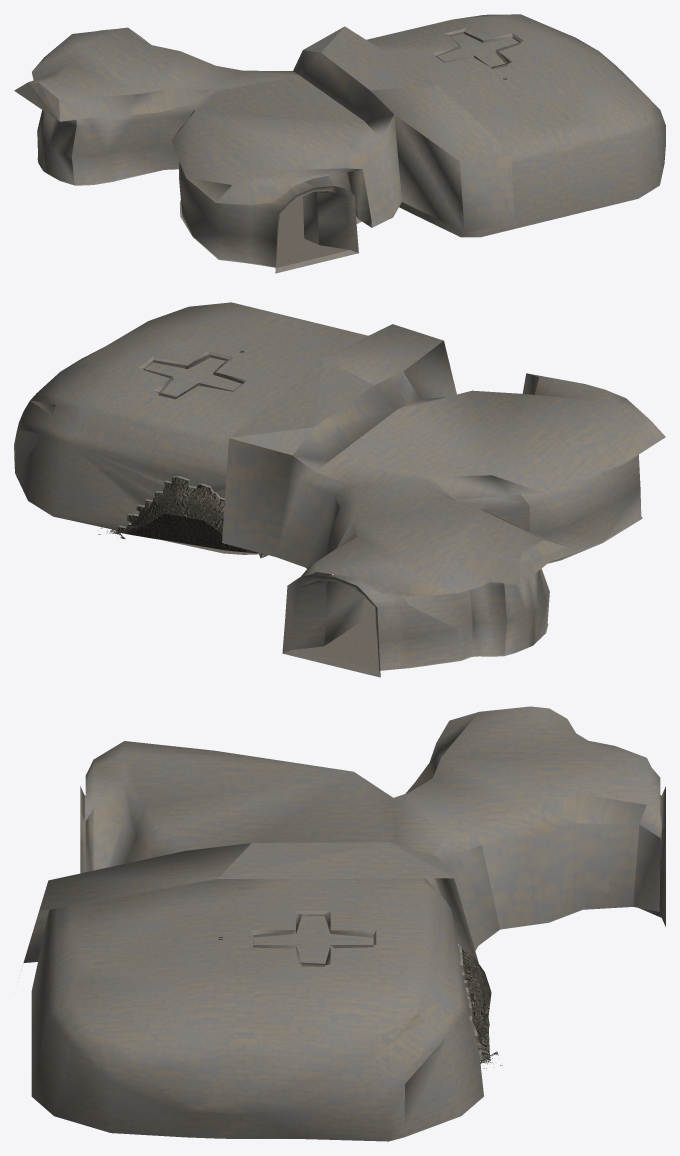
The model's file is R_Tun2B.glb.
The picture shows the model from 3 angles, top to bottom: view 1: azimuth 30°, elevation 25°; view 2: azimuth 150°, elevation 25°; view 3: azimuth 270°, elevation 25°; orthographic projection. The views are drawn at different scales.
Visible parts, largest first — view 1: _R_Tun2B; view 2: _R_Tun2B; view 3: _R_Tun2B.
Part boxes in pixels (x1=…): _R_Tun2B: x1=14, y1=14, x2=665, y2=273; _R_Tun2B: x1=14, y1=302, x2=665, y2=677; _R_Tun2B: x1=23, y1=706, x2=665, y2=1141.
Bounding box in the file's own units: 27.02 × 5.19 × 22.6.
8 materials, 8 textured.
